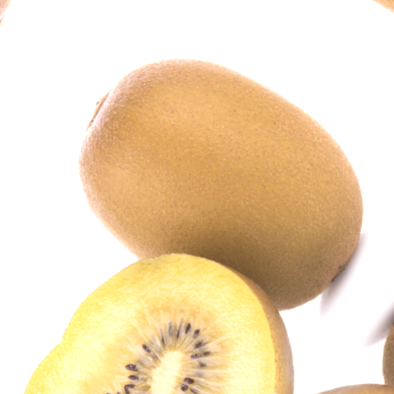kiwi: (7, 0, 394, 394)
